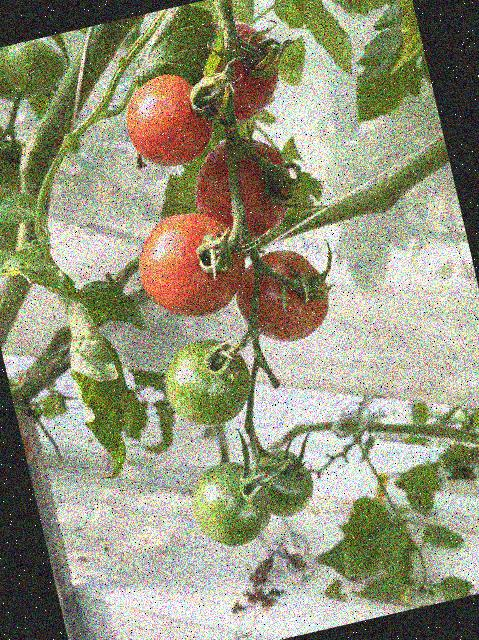l_fully_ripened: (127, 202, 254, 327), (184, 126, 303, 249), (178, 9, 289, 131), (227, 240, 338, 352), (117, 66, 221, 175)
l_green: (155, 330, 259, 435), (183, 454, 279, 554), (248, 442, 319, 521), (0, 33, 72, 100), (0, 42, 32, 105)
